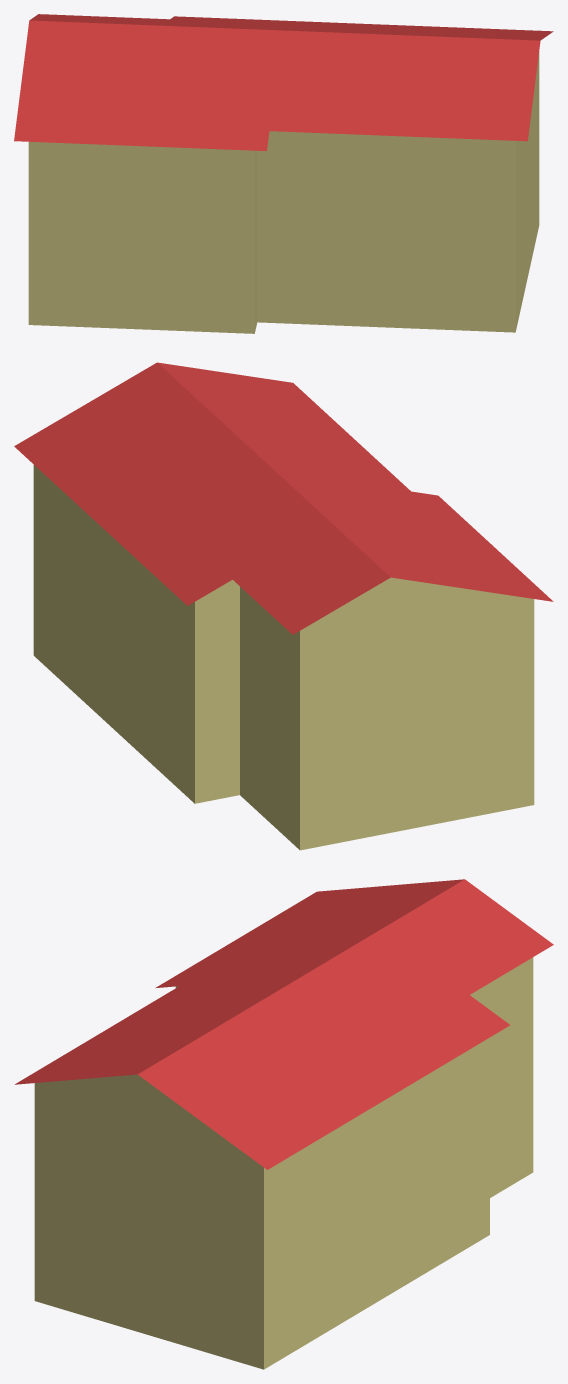
3 views of the same model, one above another, from view 1: azimuth 30°, elevation 25°; view 2: azimuth 150°, elevation 25°; view 3: azimuth 270°, elevation 25° (orthographic). The views are drawn at different scales.
Bounding box in the file's own units: 22.15 × 18.15 × 9.83.
